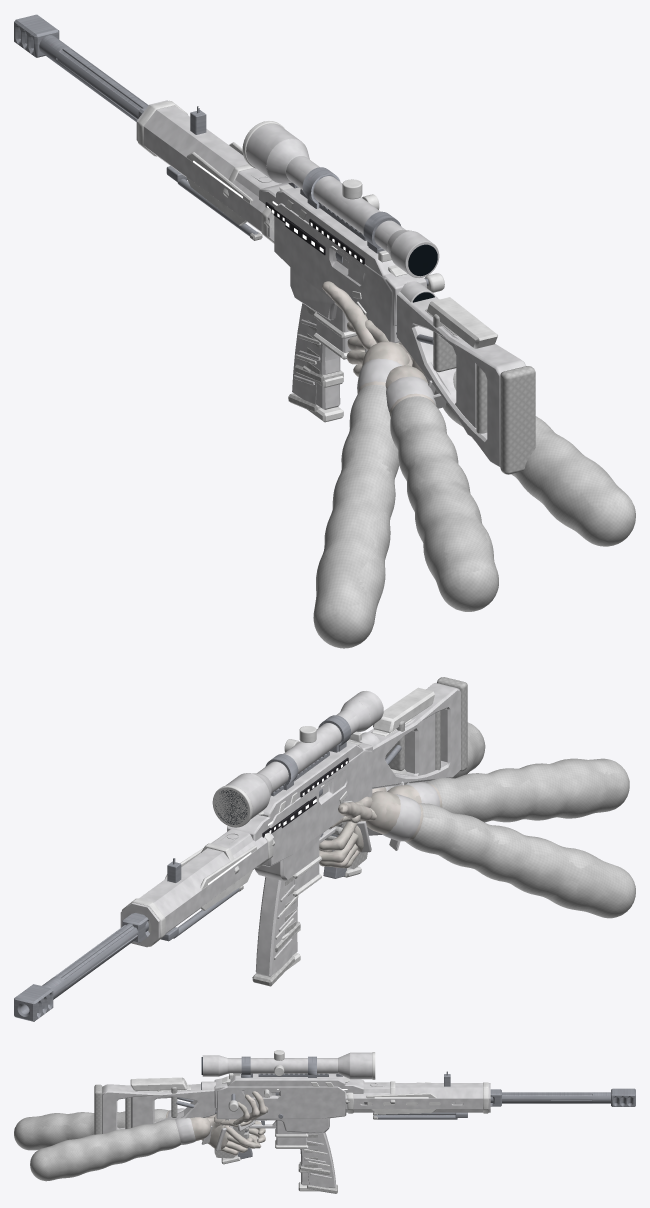
File: weapons.glb
3 views of the same model, one above another, from view 1: azimuth 30°, elevation 25°; view 2: azimuth 150°, elevation 25°; view 3: azimuth 270°, elevation 25° (orthographic). The views are drawn at different scales.
Parts seen in each view (by area): view 1: sniper_body__q, arm_left__q, arm_right__q, arm_left_pistol__q, rifle_body__q, smg_body__q, rifle_mag__q, rifle_mag_ext__q, smg_mag_ext__q; view 2: sniper_body__q, arm_left__q, arm_right__q, rifle_body__q, smg_body__q, arm_left_pistol__q, rifle_mag_ext__q, rifle_mag__q, sniper_mag_ext__q; view 3: sniper_body__q, arm_left_pistol__q, arm_right__q, rifle_body__q, smg_body__q, rifle_mag_ext__q, rifle_mag__q, arm_left__q, sniper_mag_ext__q, smg_mag_ext__q, sniper_mag__q.
Boxes of the visible parts, <box> form: sniper_body__q: <box>14,14,535,474</box>; arm_left__q: <box>313,281,409,648</box>; arm_right__q: <box>347,320,498,611</box>; arm_left_pistol__q: <box>347,336,635,546</box>; rifle_body__q: <box>138,106,487,437</box>; smg_body__q: <box>223,164,456,372</box>; rifle_mag__q: <box>295,303,343,382</box>; rifle_mag_ext__q: <box>288,303,320,412</box>; smg_mag_ext__q: <box>303,347,343,422</box>; sniper_body__q: <box>14,677,467,1021</box>; arm_left__q: <box>328,791,635,918</box>; arm_right__q: <box>319,758,629,851</box>; rifle_body__q: <box>122,711,440,943</box>; smg_body__q: <box>201,720,404,874</box>; arm_left_pistol__q: <box>319,722,485,868</box>; rifle_mag_ext__q: <box>252,876,294,986</box>; rifle_mag__q: <box>275,880,300,952</box>; sniper_mag_ext__q: <box>293,856,321,896</box>; sniper_body__q: <box>94,1050,635,1158</box>; arm_left_pistol__q: <box>30,1116,265,1181</box>; arm_right__q: <box>14,1108,261,1155</box>; rifle_body__q: <box>125,1071,501,1157</box>; smg_body__q: <box>171,1073,395,1128</box>; rifle_mag_ext__q: <box>306,1132,337,1193</box>; rifle_mag__q: <box>299,1133,330,1174</box>; arm_left__q: <box>207,1091,268,1131</box>; sniper_mag_ext__q: <box>275,1133,308,1148</box>; smg_mag_ext__q: <box>298,1145,321,1191</box>; sniper_mag__q: <box>275,1120,308,1137</box>.
Bounding box in the file's own units: 0.4106 × 0.4284 × 1.5.
Materials: 11 (11 with a texture image).
